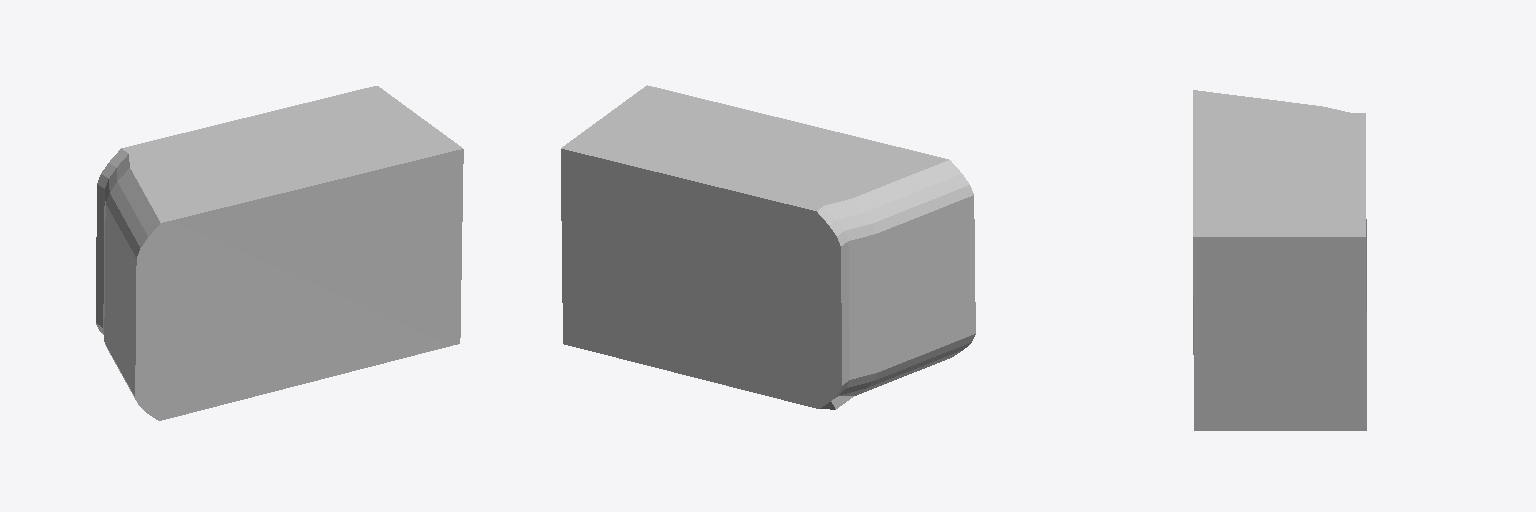
The model's file is hull_r2_phy.obj.
The picture shows the model from 3 angles: view 1: azimuth 30°, elevation 25°; view 2: azimuth 150°, elevation 25°; view 3: azimuth 270°, elevation 25°; orthographic projection.
Visible parts, largest first — view 1: Hull_R2_phy; view 2: Hull_R2_phy; view 3: Hull_R2_phy.
Part boxes in pixels (left/top/right/bottom): Hull_R2_phy: left=96, top=86, right=463, bottom=420; Hull_R2_phy: left=561, top=85, right=975, bottom=409; Hull_R2_phy: left=1193, top=90, right=1366, bottom=430.
Bounding box in the file's own units: 0.1653 × 0.0951 × 0.0758.